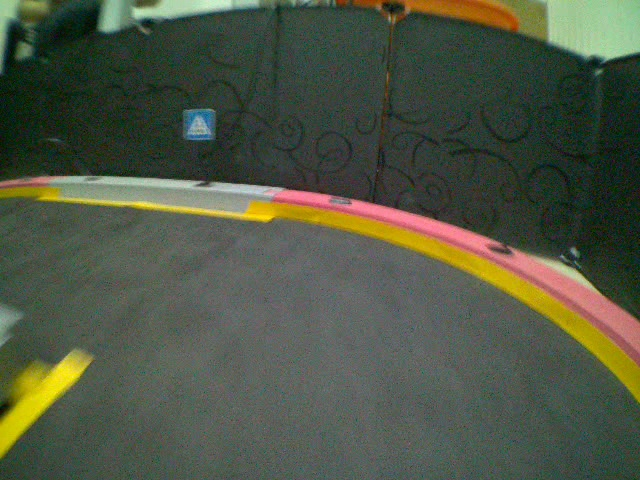crossing: (182, 106, 217, 143)
